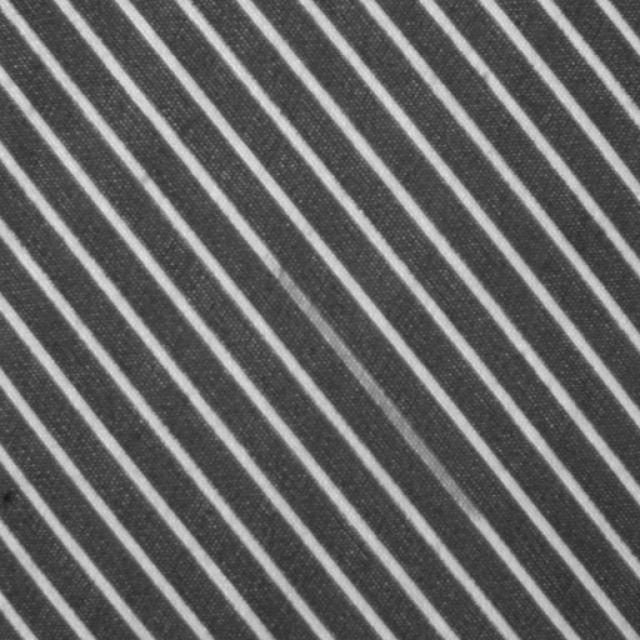Stain-Defect: (192, 175, 495, 530)
